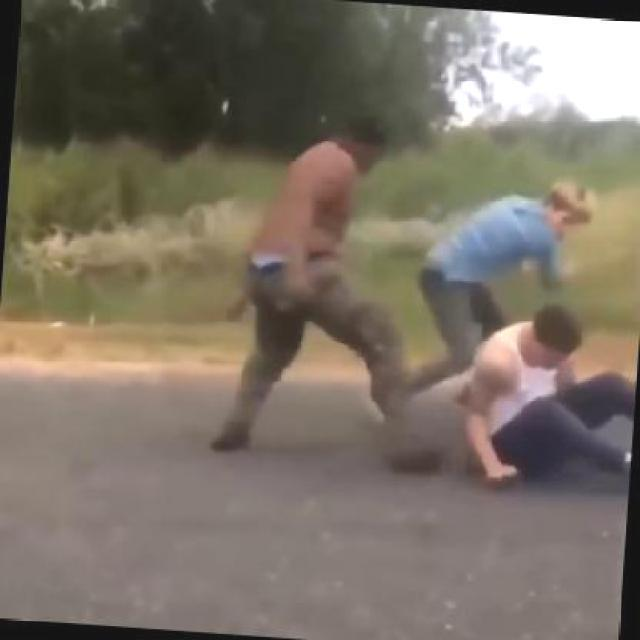fight: (398, 169, 638, 506)
